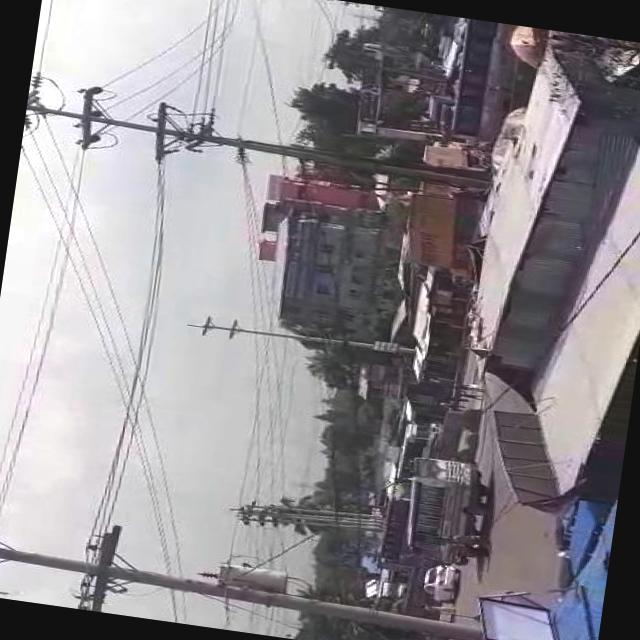bus: (441, 18, 525, 144), (396, 454, 488, 569), (388, 422, 441, 482)
car: (418, 564, 457, 607)
